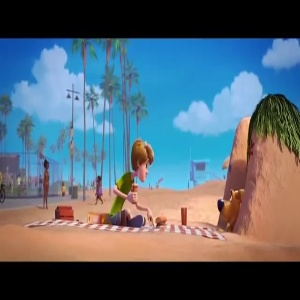Scooby: (217, 189, 242, 225)
Shagy: (132, 138, 156, 184)
